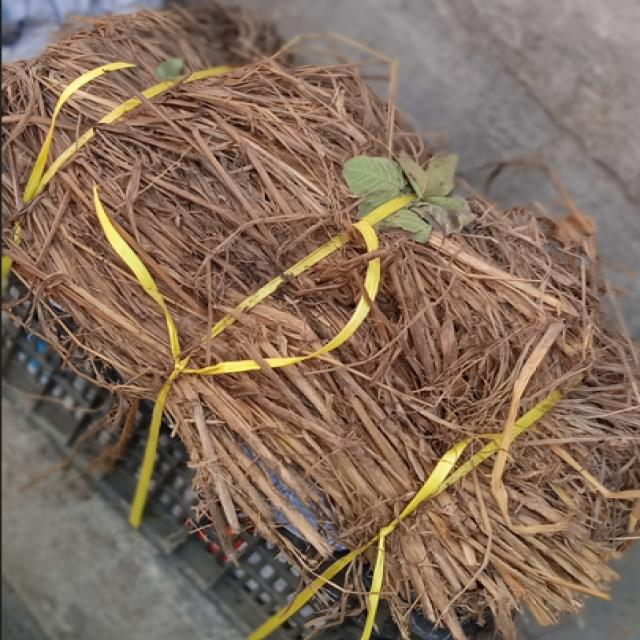paper: (0, 9, 632, 621), (87, 139, 261, 268), (331, 153, 414, 202)
